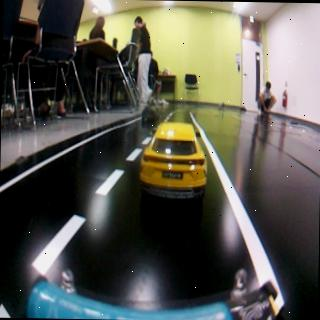car: (142, 114, 205, 208)
